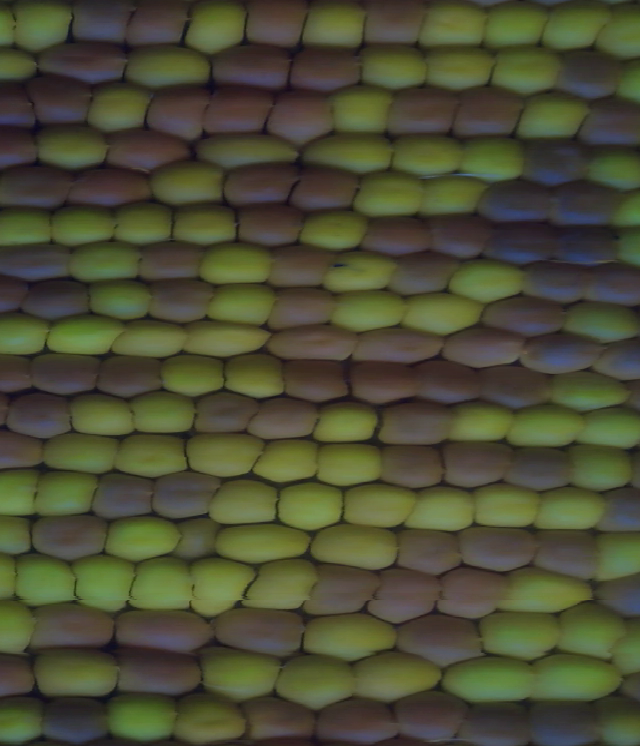fluorescent: (519, 647, 632, 711), (189, 640, 292, 707), (294, 607, 405, 669), (22, 641, 126, 707), (269, 649, 364, 718), (346, 646, 450, 708), (475, 606, 575, 670), (438, 650, 546, 708), (116, 550, 200, 623), (498, 559, 603, 617), (182, 550, 266, 622), (176, 422, 272, 484), (116, 38, 222, 94), (542, 362, 639, 422), (307, 518, 409, 575), (550, 597, 637, 663), (161, 688, 259, 746), (207, 516, 318, 567), (187, 124, 302, 173), (506, 86, 599, 146), (292, 127, 398, 178), (7, 547, 90, 612), (234, 557, 325, 616), (100, 509, 195, 565), (480, 40, 567, 101), (140, 154, 233, 211), (24, 117, 115, 175), (199, 473, 290, 531), (312, 246, 409, 300), (462, 473, 546, 535), (61, 235, 155, 290), (556, 295, 640, 356), (95, 686, 179, 746), (333, 479, 428, 532), (79, 74, 160, 136), (320, 285, 413, 339), (384, 128, 472, 185), (350, 36, 435, 95), (414, 40, 505, 95), (174, 315, 279, 362), (71, 549, 141, 619), (527, 481, 616, 536), (110, 428, 199, 483), (399, 481, 486, 537), (288, 201, 376, 256), (192, 238, 280, 293), (243, 435, 331, 490), (346, 165, 432, 221), (442, 254, 531, 308), (40, 309, 129, 363), (219, 348, 296, 410), (396, 289, 491, 339), (271, 476, 350, 536), (25, 464, 107, 521), (307, 440, 393, 494), (451, 130, 532, 187), (325, 80, 399, 142), (66, 385, 145, 443), (179, 1, 256, 60), (560, 438, 637, 497), (533, 1, 615, 56), (38, 201, 126, 252), (414, 169, 494, 225), (151, 343, 231, 398), (35, 427, 123, 477), (499, 402, 592, 449), (305, 393, 383, 449), (439, 396, 523, 448), (474, 1, 553, 56), (125, 386, 202, 441), (201, 278, 284, 329), (80, 276, 159, 329), (295, 1, 371, 56), (8, 1, 80, 59), (164, 199, 246, 249), (416, 1, 490, 56), (104, 317, 191, 363), (107, 195, 178, 251), (579, 138, 640, 197), (571, 405, 640, 456), (0, 202, 64, 252), (0, 305, 57, 359), (590, 1, 640, 62), (0, 690, 54, 746), (585, 693, 640, 746), (588, 525, 640, 581), (0, 594, 46, 656), (0, 465, 45, 526), (603, 610, 640, 680), (0, 37, 45, 88), (602, 180, 640, 236), (605, 55, 640, 113), (608, 220, 640, 276), (0, 1, 30, 54)
nonfluorescent: (107, 601, 222, 662), (106, 641, 212, 707), (21, 595, 124, 662), (390, 608, 492, 671), (205, 604, 312, 662), (199, 37, 298, 97), (293, 559, 387, 622), (450, 520, 545, 582), (258, 87, 343, 154), (231, 688, 329, 746), (22, 507, 118, 566), (389, 682, 476, 746), (30, 34, 135, 87), (537, 173, 628, 234), (526, 521, 607, 589), (446, 79, 529, 145), (425, 562, 517, 621), (404, 353, 494, 413), (306, 692, 406, 746), (431, 320, 529, 375), (99, 123, 200, 176), (375, 82, 464, 142), (59, 160, 159, 213), (471, 175, 564, 231), (266, 352, 360, 407), (367, 568, 450, 630), (260, 319, 365, 368), (477, 216, 564, 274), (370, 395, 457, 453), (434, 435, 519, 494), (282, 161, 368, 219), (476, 291, 575, 341), (512, 328, 613, 377), (138, 271, 219, 332), (146, 461, 223, 525), (196, 78, 278, 138), (517, 694, 611, 746), (337, 357, 429, 410), (257, 236, 344, 292), (138, 82, 216, 144), (349, 325, 454, 371), (19, 348, 108, 402), (376, 247, 463, 302), (13, 276, 100, 331), (388, 520, 469, 579), (212, 158, 303, 210), (417, 208, 500, 265), (493, 441, 576, 498), (470, 362, 560, 414), (184, 388, 267, 444), (257, 281, 343, 335), (88, 465, 162, 527), (20, 70, 96, 130), (513, 132, 591, 190), (373, 438, 451, 496), (542, 220, 624, 275), (0, 157, 80, 213), (546, 46, 623, 104), (232, 199, 316, 252), (282, 43, 369, 94), (451, 696, 539, 746), (240, 394, 326, 445), (236, 1, 314, 55), (90, 349, 168, 403), (570, 95, 640, 155), (0, 390, 80, 442), (118, 1, 194, 55), (513, 256, 590, 309), (0, 238, 79, 286), (574, 255, 640, 312), (63, 1, 141, 49), (131, 239, 210, 286), (360, 1, 431, 53), (356, 213, 439, 256), (583, 483, 640, 539), (589, 565, 640, 624), (0, 425, 54, 480), (584, 336, 640, 383), (0, 646, 39, 710), (0, 78, 45, 132), (0, 345, 43, 400), (0, 121, 44, 172), (0, 270, 34, 318)
